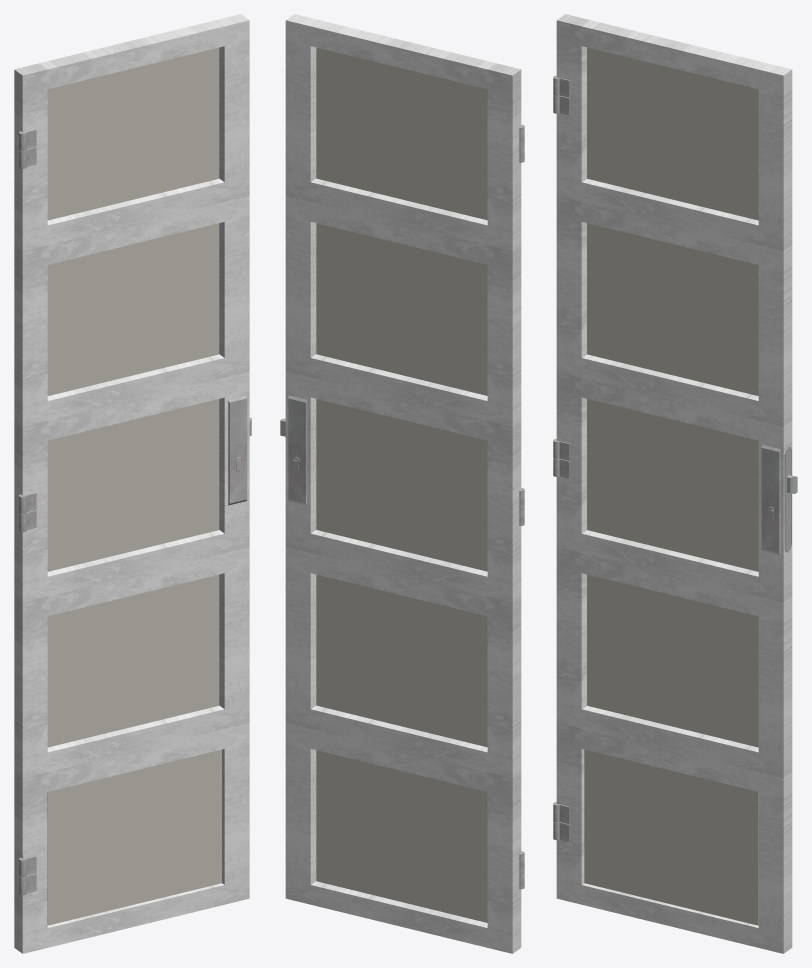
File: DoorLeft1.fbx
3 renders of one model, left to right at view 1: azimuth 30°, elevation 25°; view 2: azimuth 150°, elevation 25°; view 3: azimuth 330°, elevation 25°, orthographic.
Visible parts, largest first — view 1: Door_Left1; view 2: Door_Left1; view 3: Door_Left1.
Boxes of the visible parts, x1,y1,x2,y2 form: Door_Left1: (14, 14, 251, 953); Door_Left1: (280, 14, 524, 953); Door_Left1: (553, 14, 797, 953).
Size of the model in its own units: 72.05 by 254 by 6.08.
Materials: 3 (2 with a texture image).
